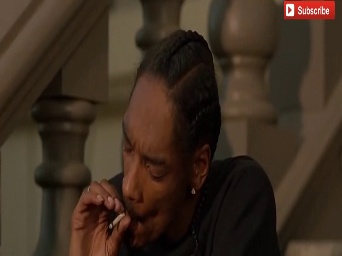smoke: (108, 210, 125, 229)
